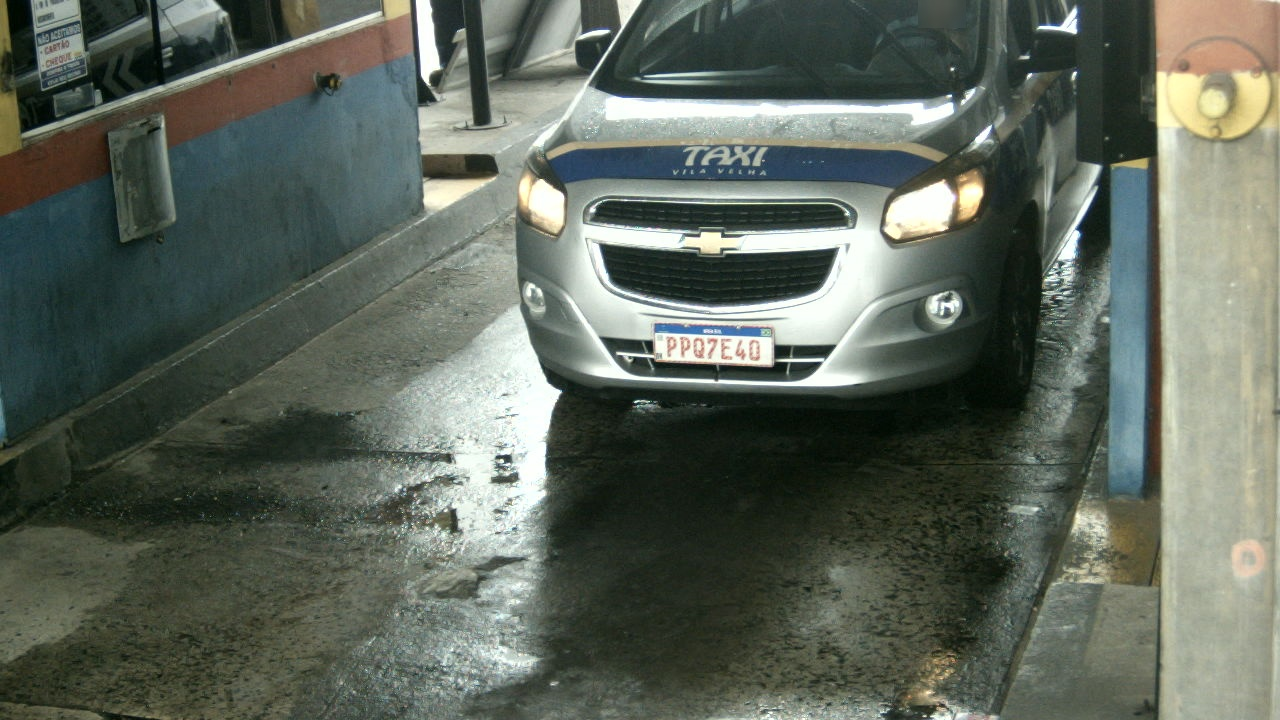placa: (654, 323, 773, 367)
